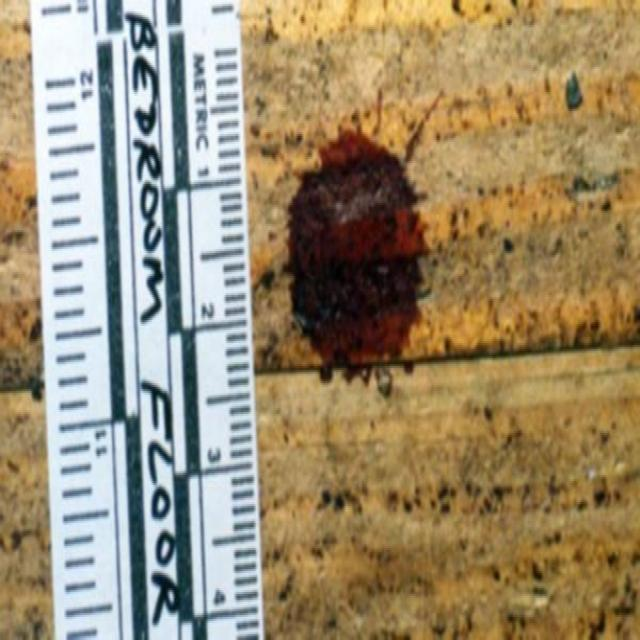Bloodstain-Detection: (289, 130, 424, 364)
